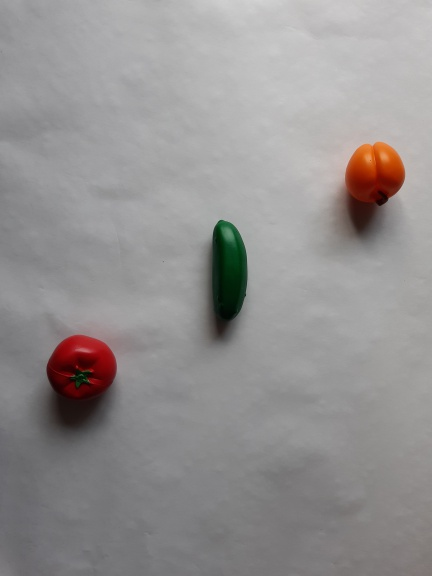apricot: (337, 129, 413, 213)
cucumber: (199, 212, 256, 330)
tomato: (40, 329, 124, 410)
